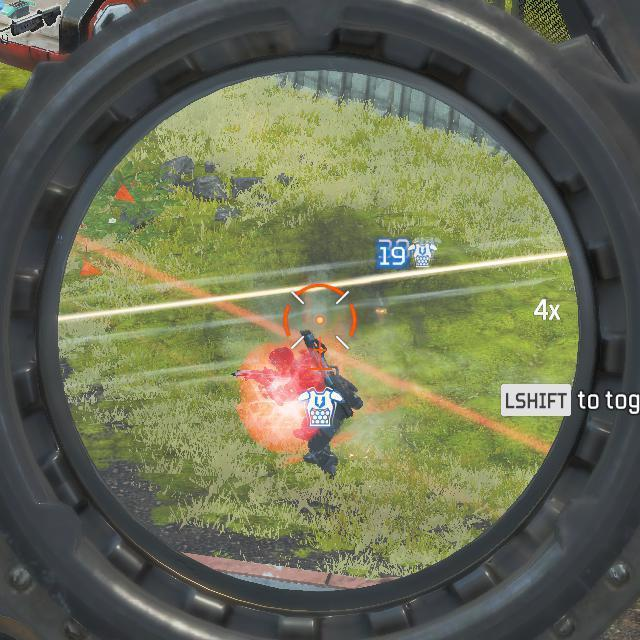avatar: (266, 345, 364, 481)
object: (236, 340, 327, 455)
